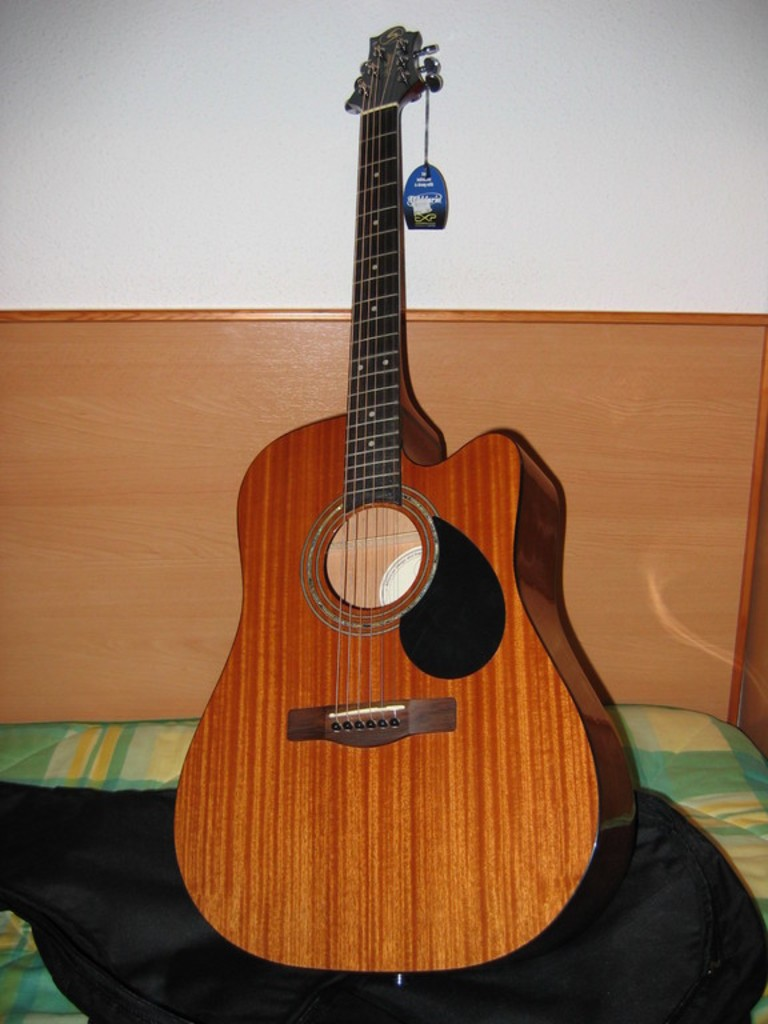guitar: (172, 26, 636, 987)
